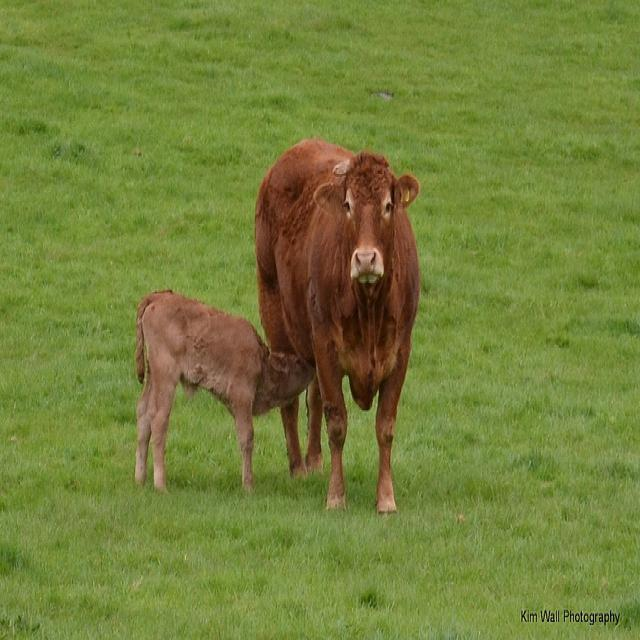cow: (253, 138, 418, 513), (131, 282, 315, 494)
